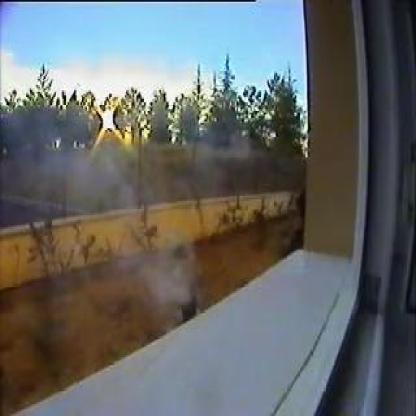-: (130, 247, 190, 299)
